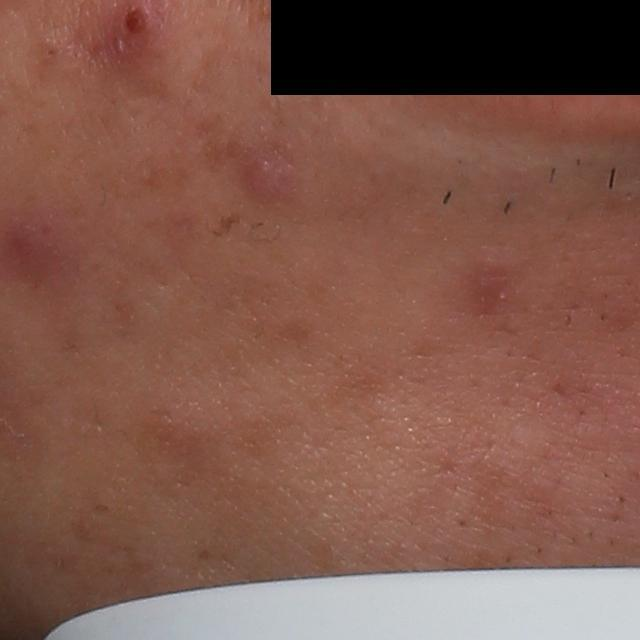comedo: (40, 42, 58, 61)
papule: (237, 156, 290, 208)
